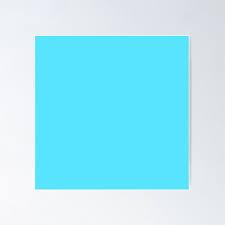cyan_zone: (32, 35, 193, 192)
